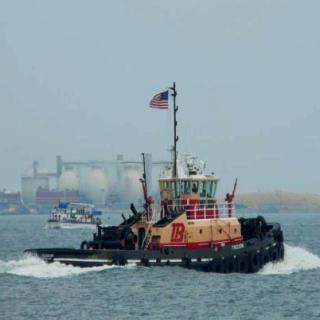Tug Boat: (50, 107, 286, 270)
